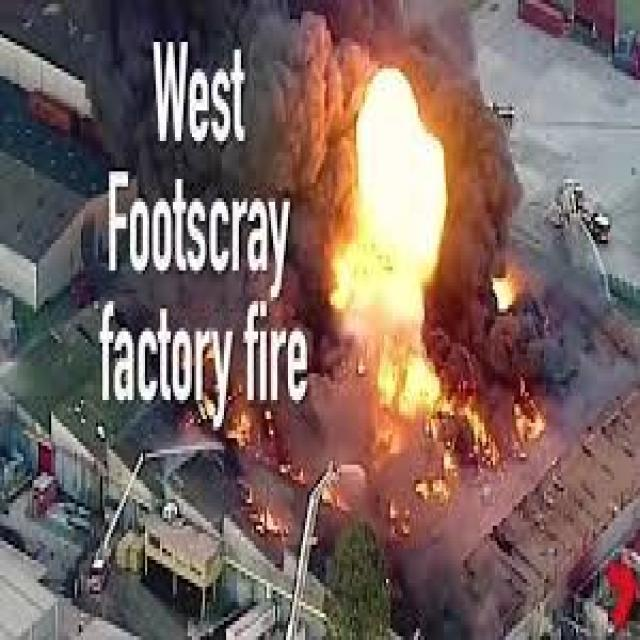Fire: (327, 68, 446, 331), (368, 453, 420, 537), (460, 395, 497, 478), (403, 359, 445, 419), (507, 398, 544, 451), (612, 563, 637, 633)
Smoke: (92, 0, 306, 259), (466, 302, 577, 378), (457, 77, 495, 284)
